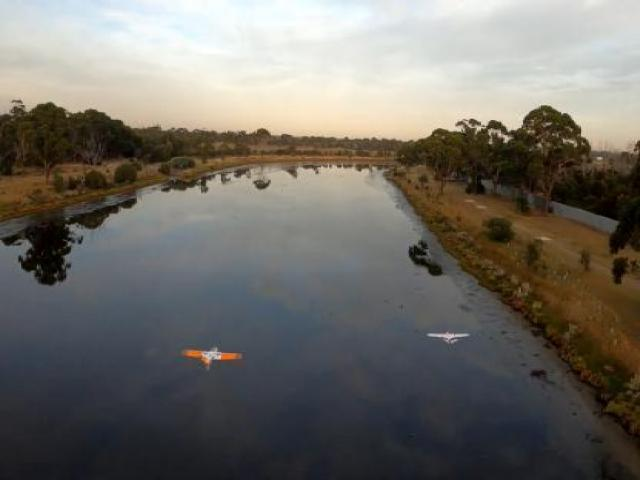uav: (172, 344, 245, 369), (424, 327, 470, 347)
